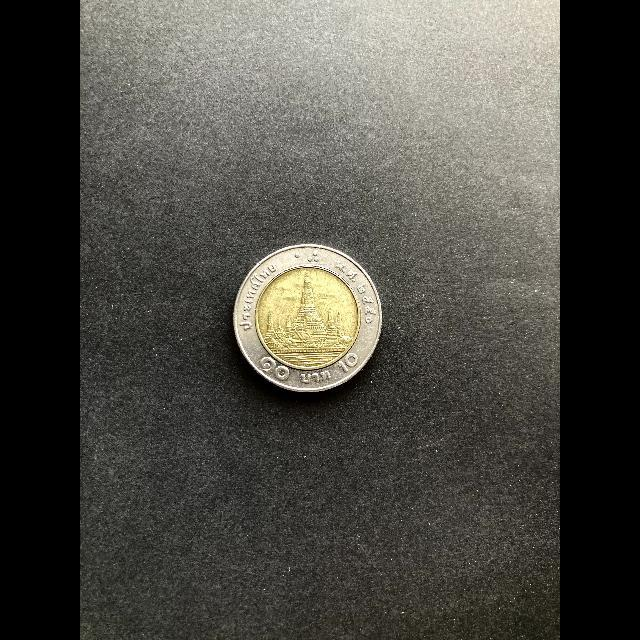10 Bath: (231, 242, 387, 398)
